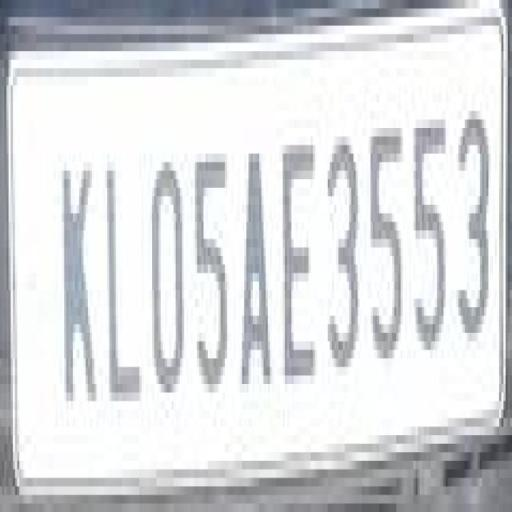number plate: (21, 9, 511, 487)
